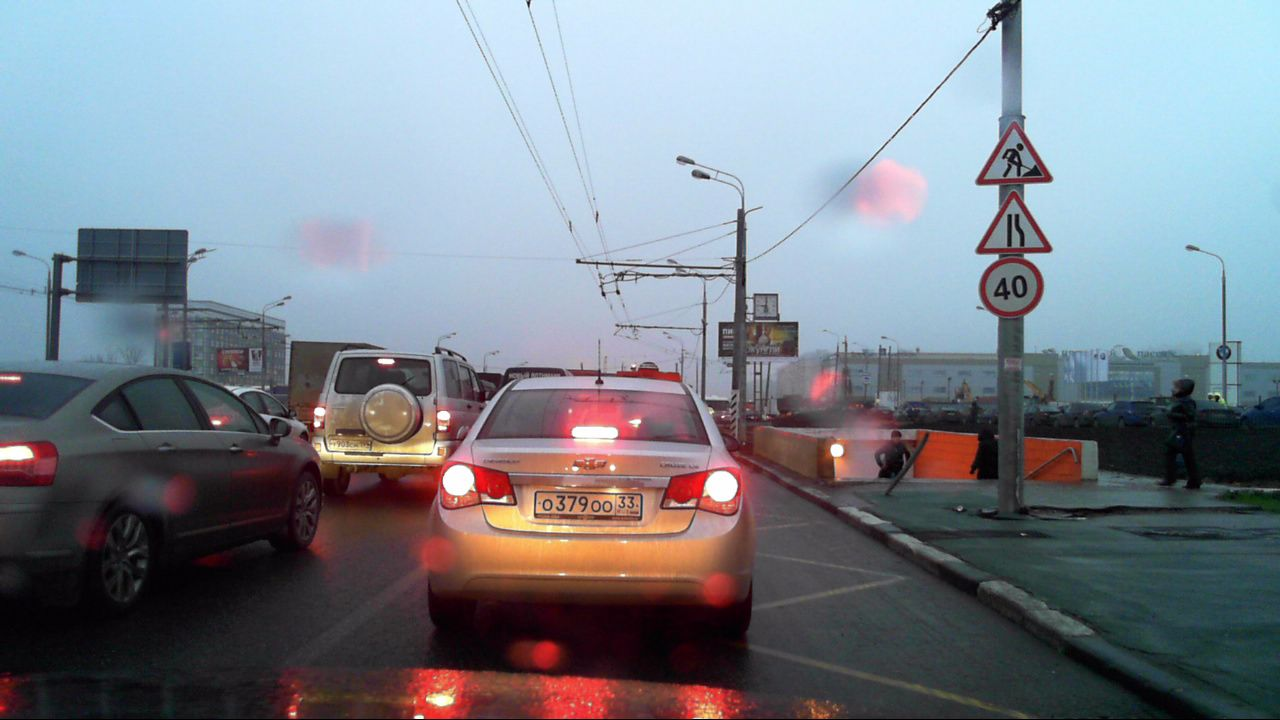speed_warning_40: (976, 260, 1042, 317)
